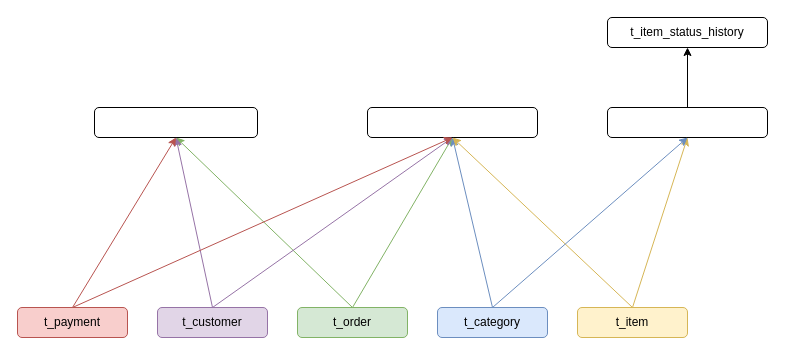
Some shapes in this 785 by 355 pixel diagram are drawn without their labels. The shapes that lost their labels are listed below. From the top down, each one's centre as x and y in pixels, then its label:
the point at 176,122: vw_birthday_customer_sales
the point at 452,122: vw_top5_cellphone_sellers
the point at 687,122: usp_reprocess_item_history
